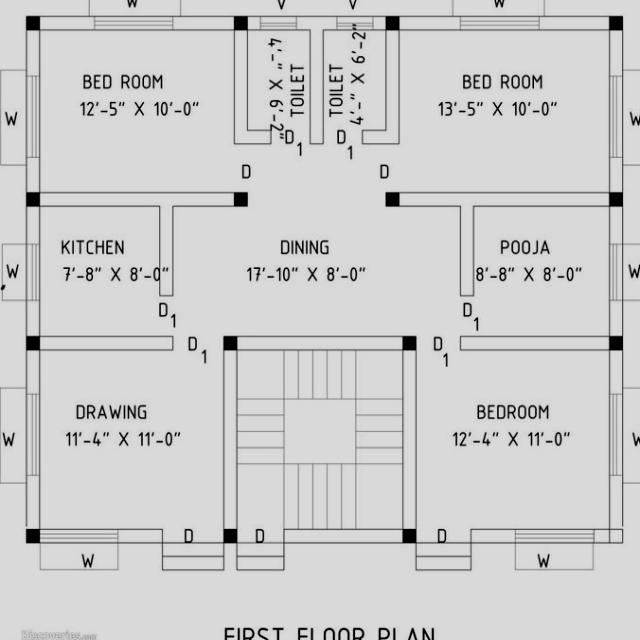Blueprint: (10, 0, 633, 562)
column: (397, 332, 423, 356), (382, 11, 405, 35), (604, 331, 626, 355), (22, 11, 44, 34), (382, 189, 404, 212), (229, 12, 251, 34), (230, 188, 252, 210), (22, 187, 44, 209), (219, 330, 241, 352), (606, 187, 626, 211), (605, 11, 625, 34), (22, 332, 44, 352), (22, 526, 42, 548), (218, 527, 242, 545), (398, 527, 418, 545)
wall: (38, 188, 236, 210), (396, 190, 612, 208), (222, 347, 240, 533), (400, 348, 418, 531), (234, 333, 404, 352), (458, 332, 614, 352), (38, 332, 178, 352), (282, 526, 404, 544), (306, 28, 324, 146), (384, 28, 402, 134), (232, 27, 250, 133), (458, 202, 476, 299), (156, 204, 174, 298), (538, 14, 612, 32), (398, 13, 462, 32), (172, 14, 236, 32), (24, 472, 42, 532), (608, 474, 626, 532), (467, 526, 518, 546), (114, 526, 164, 546), (38, 15, 96, 32), (24, 28, 43, 78), (607, 28, 625, 78), (607, 346, 625, 396), (24, 348, 42, 398), (23, 296, 43, 340), (294, 15, 340, 32), (24, 204, 42, 247), (23, 156, 42, 196), (232, 128, 274, 146), (361, 128, 401, 146), (608, 204, 624, 247), (608, 298, 625, 338), (591, 527, 626, 545), (608, 155, 624, 194), (371, 15, 389, 32), (247, 14, 263, 32)
